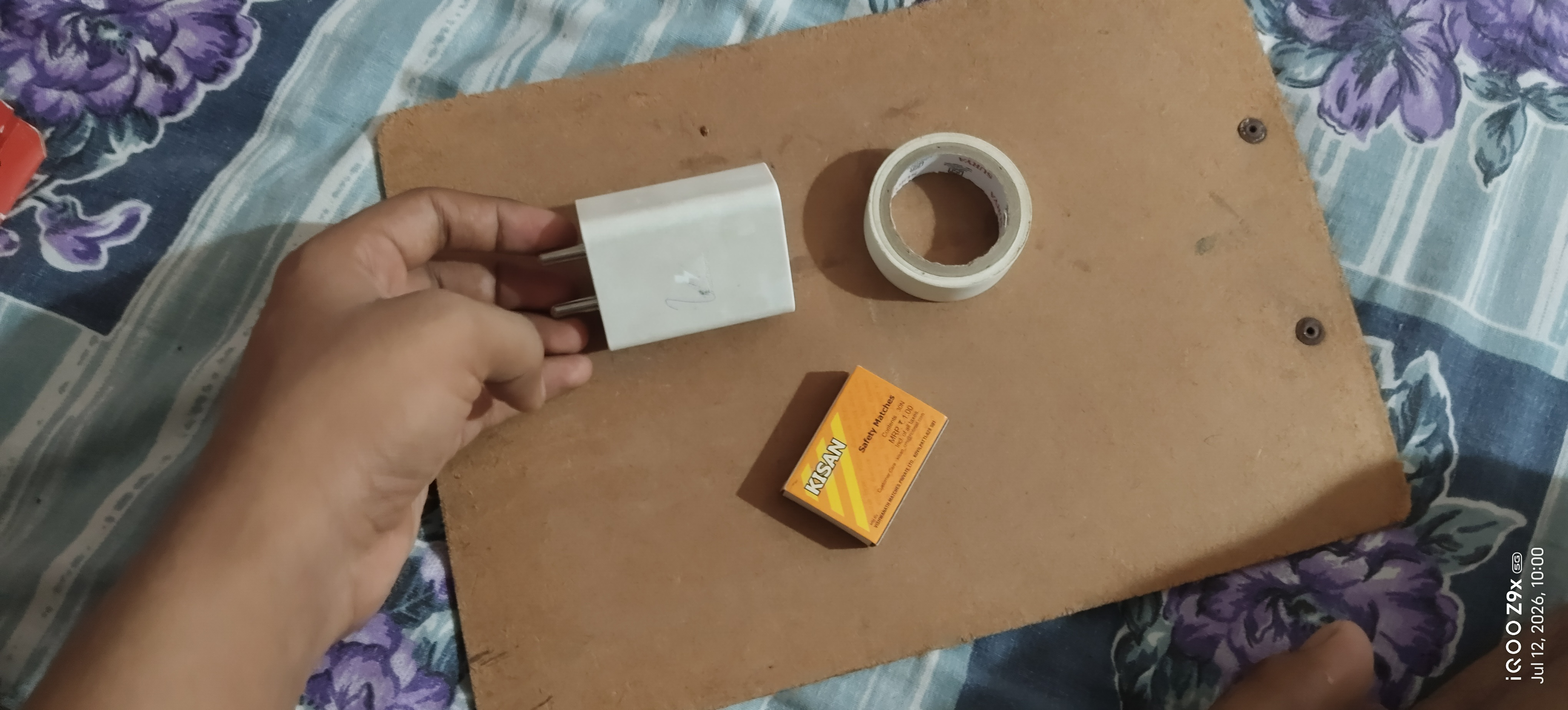charger: (531, 154, 827, 360)
matchbox: (756, 353, 971, 580)
tape_roll: (850, 123, 1052, 315)
